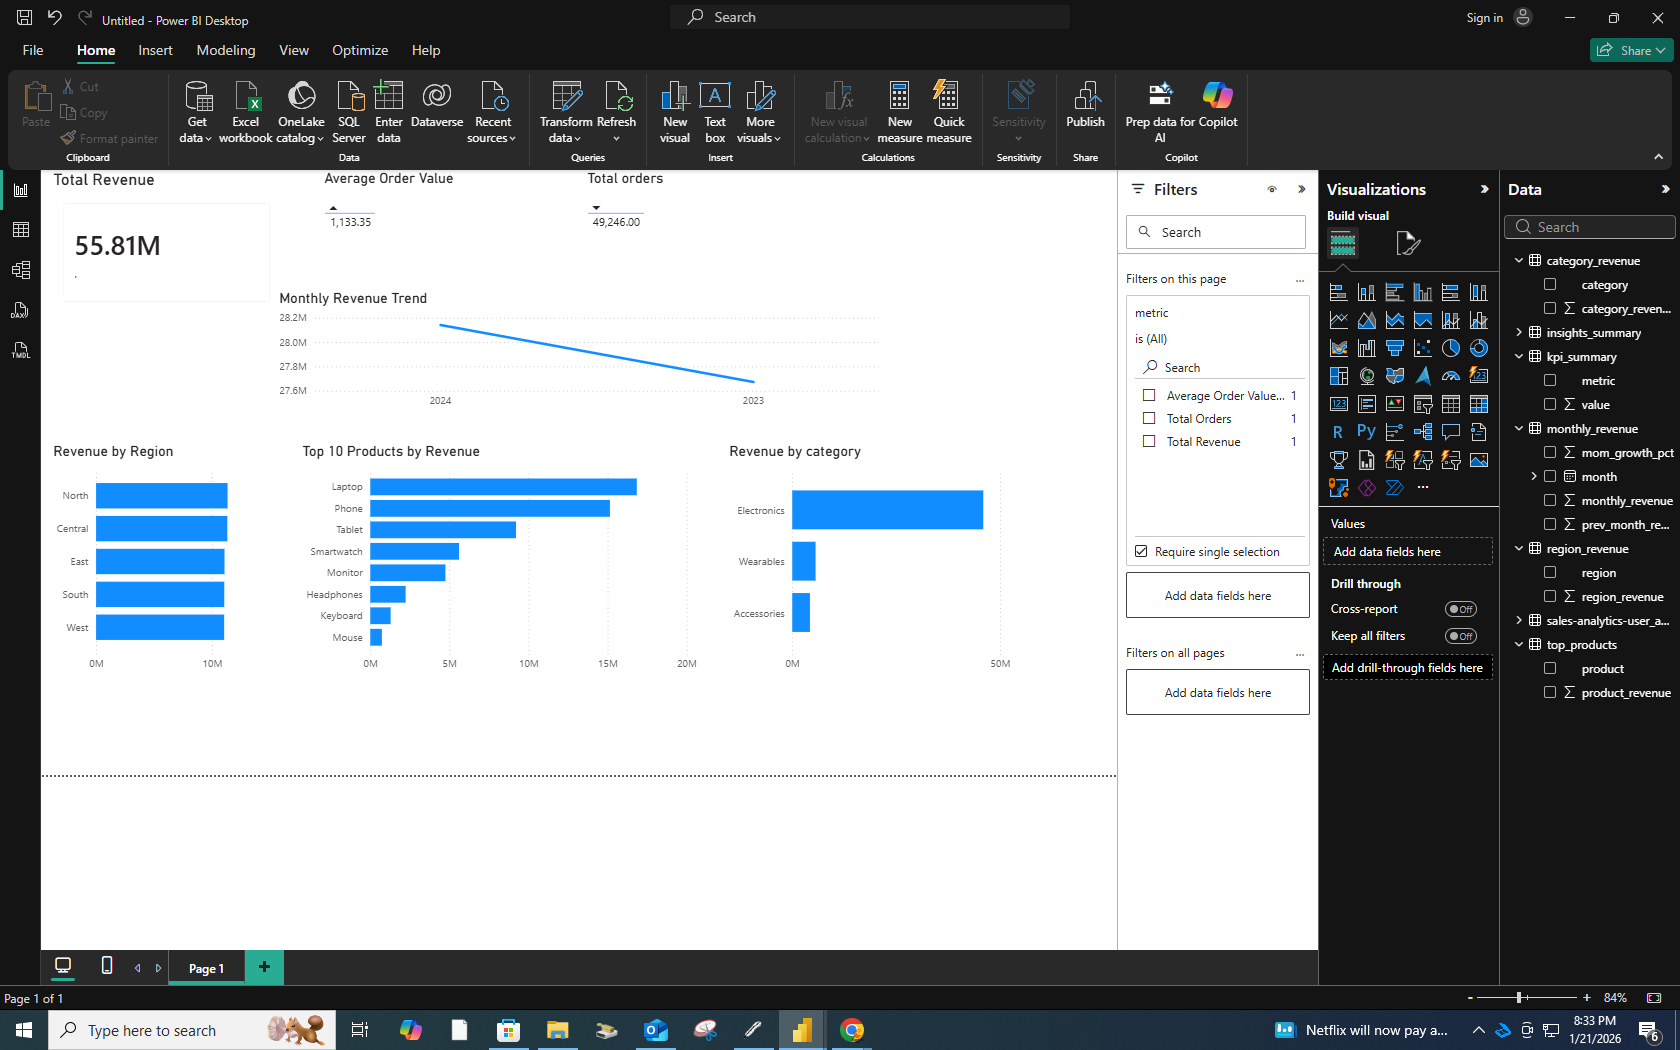

Layout of this report page (visuals, bound fields, positions):
{"tool":"powerbi","page":{"name":"Page 1","canvas":[1280,720],"ordinal":0},"visuals":[{"type":"cardVisual","title":"Total Revenue","fields":{"Data":["Sum(kpi_summary.value)"]},"box":[9.5,0,280.7,174.9],"z":0},{"type":"tableEx","title":"Total orders","fields":{"Values":["Sum(kpi_summary.value)"]},"box":[644.8,0,280.7,174.9],"z":2},{"type":"tableEx","title":"Average Order Value","fields":{"Values":["Sum(kpi_summary.value)"]},"box":[331.9,0,279.6,174.9],"z":4},{"type":"lineChart","title":"Monthly Revenue Trend","fields":{"Category":["monthly_revenue.month.Variation.Date Hierarchy.Year","monthly_revenue.month.Variation.Date Hierarchy.Quarter","monthly_revenue.month.Variation.Date Hierarchy.Month","monthly_revenue.month.Variation.Date Hierarchy.Day"],"Y":["Sum(monthly_revenue.monthly_revenue)"]},"box":[278.4,142.8,723.3,149.9],"z":5},{"type":"clusteredBarChart","fields":{"Y":["Sum(region_revenue.region_revenue)"],"Category":["region_revenue.region"]},"box":[10,325,280,280],"z":6},{"type":"clusteredBarChart","fields":{"Category":["top_products.product"],"Y":["Sum(top_products.product_revenue)"]},"box":[305.7,324.8,479.4,280.7],"z":7},{"type":"clusteredBarChart","fields":{"Category":["category_revenue.category"],"Y":["Sum(category_revenue.category_revenue)"]},"box":[813.7,324.8,393.8,280.7],"z":8}]}

Visuals, with their boxes on the page's 1280x720 design canvas (x1, y1, x2, y2). These are canvas units, not pixel positions in the 1680x1050 screenshot, which may show the page scaled, cropped or inside an application window:
"Total Revenue" cardVisual: <box>10,0,290,175</box>
"Total orders" tableEx: <box>645,0,926,175</box>
"Average Order Value" tableEx: <box>332,0,612,175</box>
"Monthly Revenue Trend" lineChart: <box>278,143,1002,293</box>
clusteredBarChart - Sum(region_revenue.region_revenue) x region_revenue.region: <box>10,325,290,605</box>
clusteredBarChart - top_products.product x Sum(top_products.product_revenue): <box>306,325,785,606</box>
clusteredBarChart - category_revenue.category x Sum(category_revenue.category_revenue): <box>814,325,1208,606</box>
